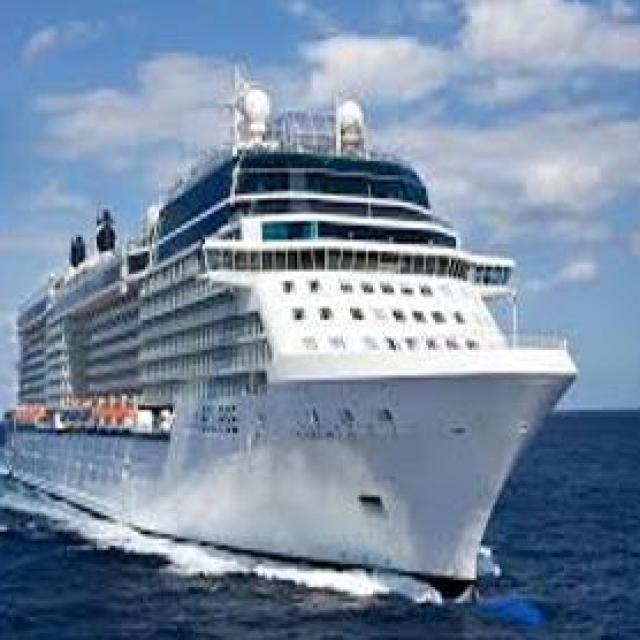passenger ship: (0, 99, 580, 592)
